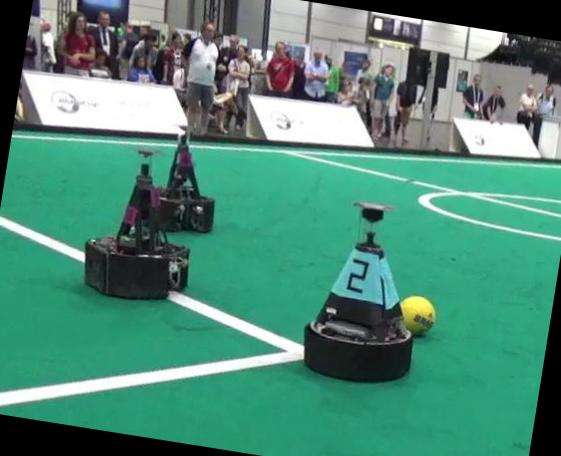ball: (399, 295, 435, 334)
robot: (303, 201, 413, 381), (84, 149, 189, 298), (159, 134, 214, 232)
